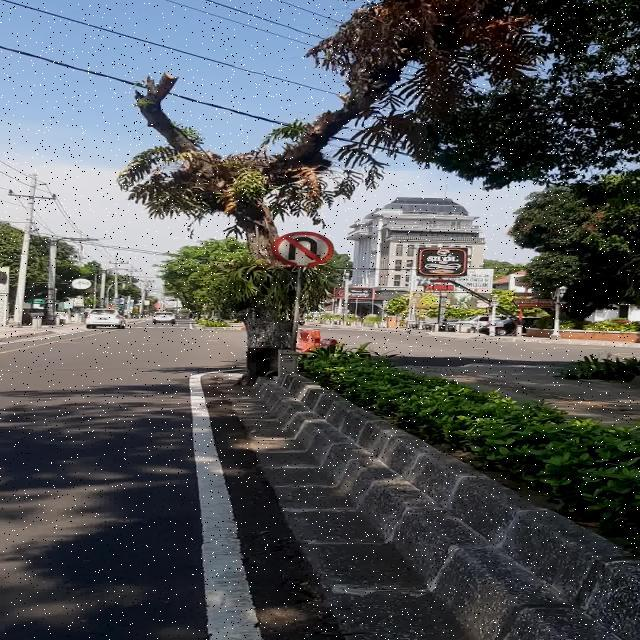Dilarang Putar Balik: (272, 231, 334, 267)
